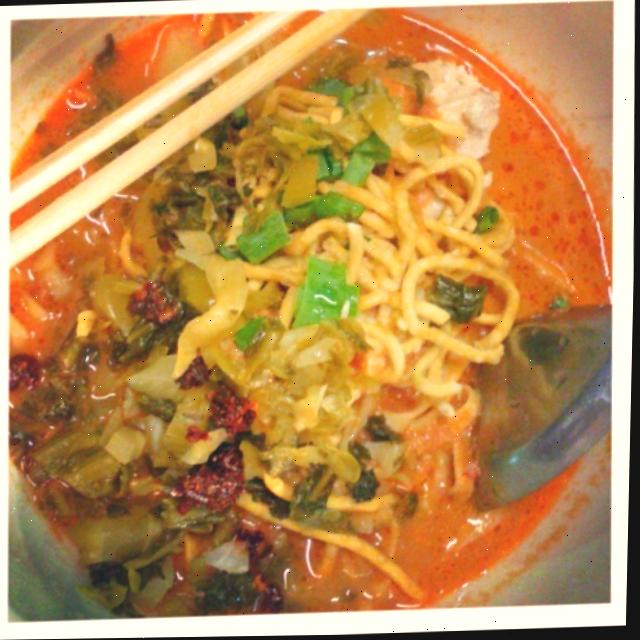面条主食: (13, 11, 602, 612)
